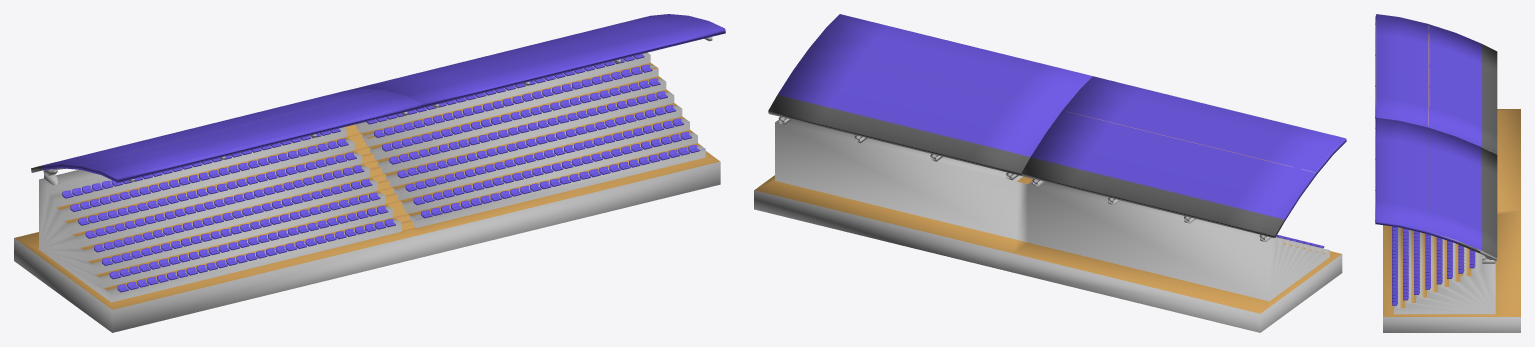
The model's file is big grand stand smooth.fbx.
3 renders of one model, left to right at view 1: azimuth 30°, elevation 25°; view 2: azimuth 150°, elevation 25°; view 3: azimuth 270°, elevation 25°, orthographic. The views are drawn at different scales.
Parts seen in each view (by area): view 1: Cube.002; view 2: Cube.002; view 3: Cube.002.
Boxes of the visible parts, x1,y1,x2,y2 form: Cube.002: (14, 14, 725, 332); Cube.002: (754, 14, 1346, 332); Cube.002: (1375, 14, 1520, 332).
Size of the model in its own units: 1460 by 366 by 432.
